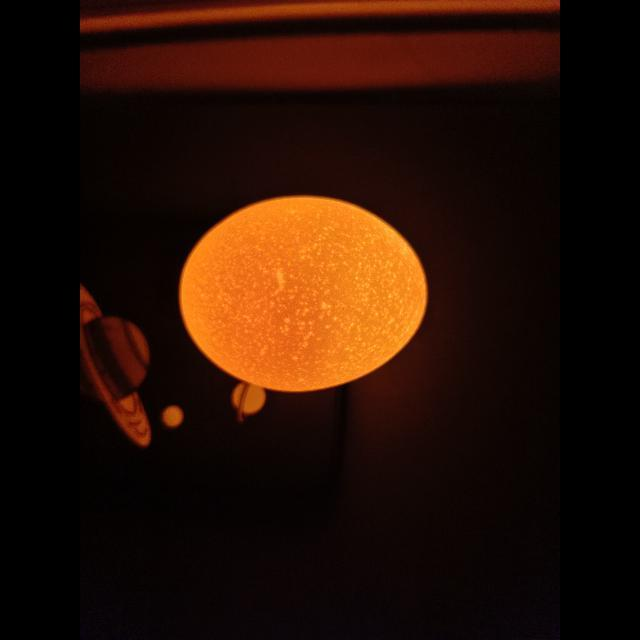AA - Premium: (180, 196, 428, 391)
